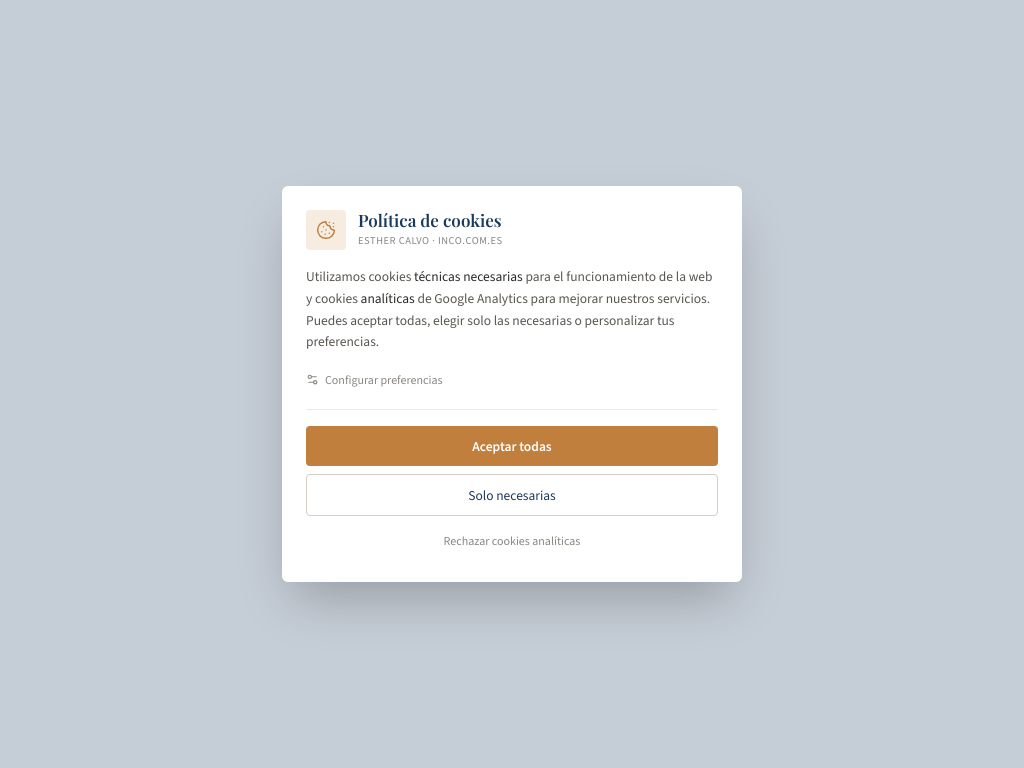
Test case: CookieConsent › expanding necessary cookies shows table
Click the button "Configurar preferencias" at (374, 380), box [306,371,442,389]
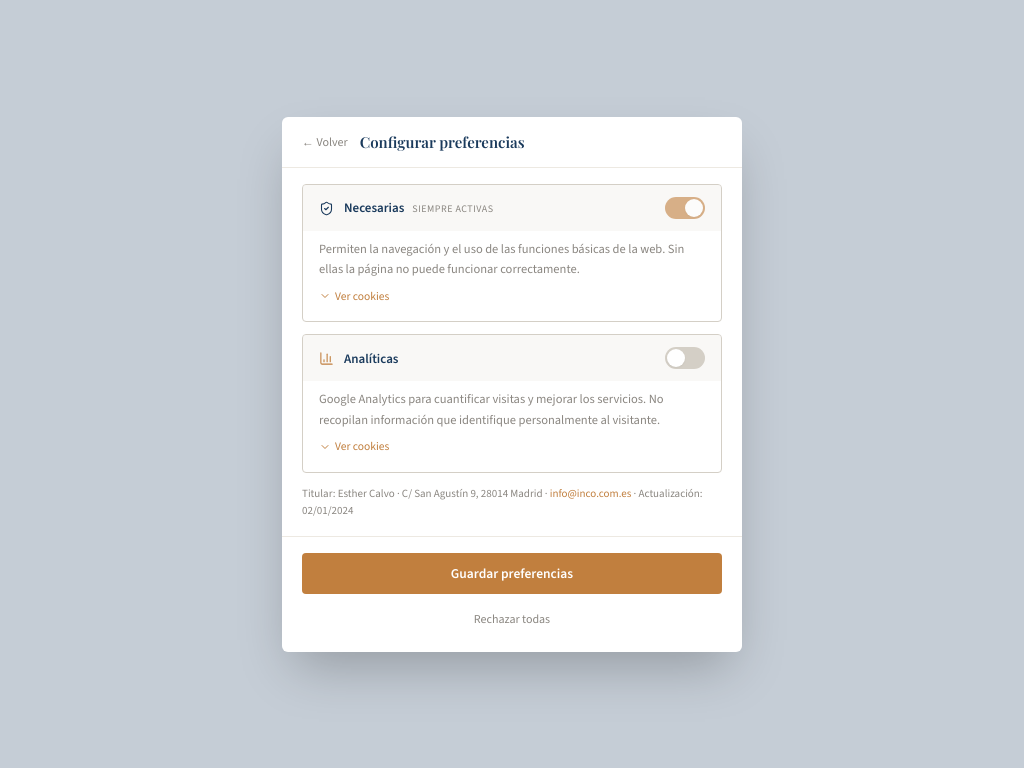
Click the button "Ver cookies" below "Necesarias" at (354, 296), box [319,288,389,305]
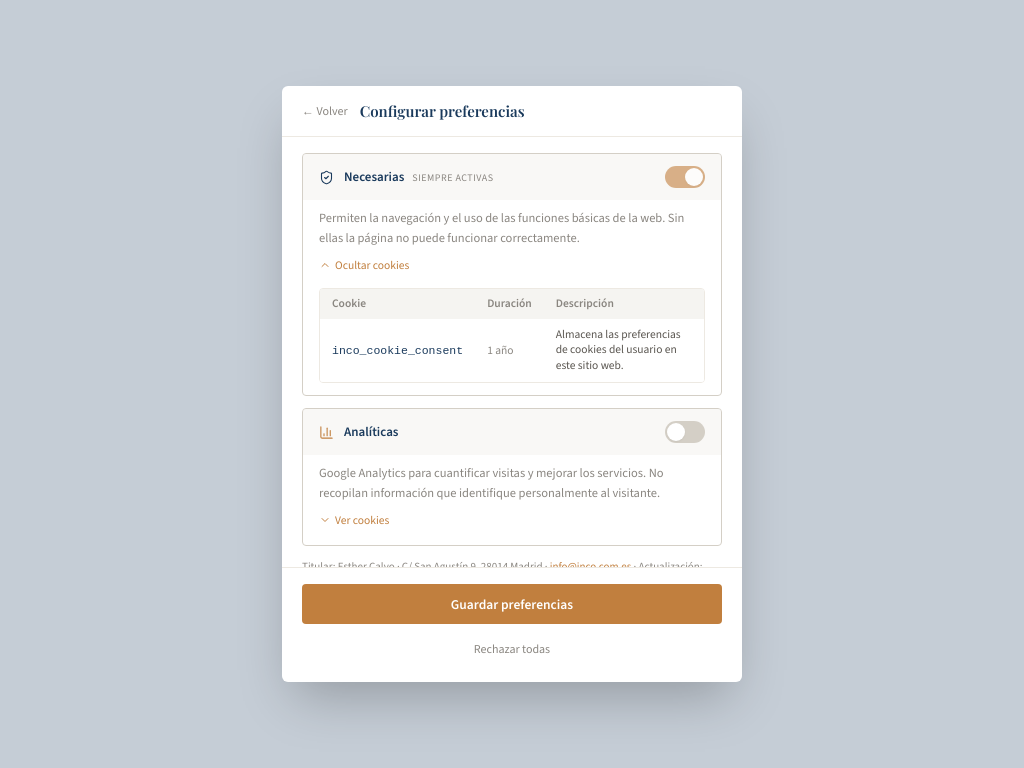
Now the text "inco_cookie_consent" is shown, box [320,319,475,382]
